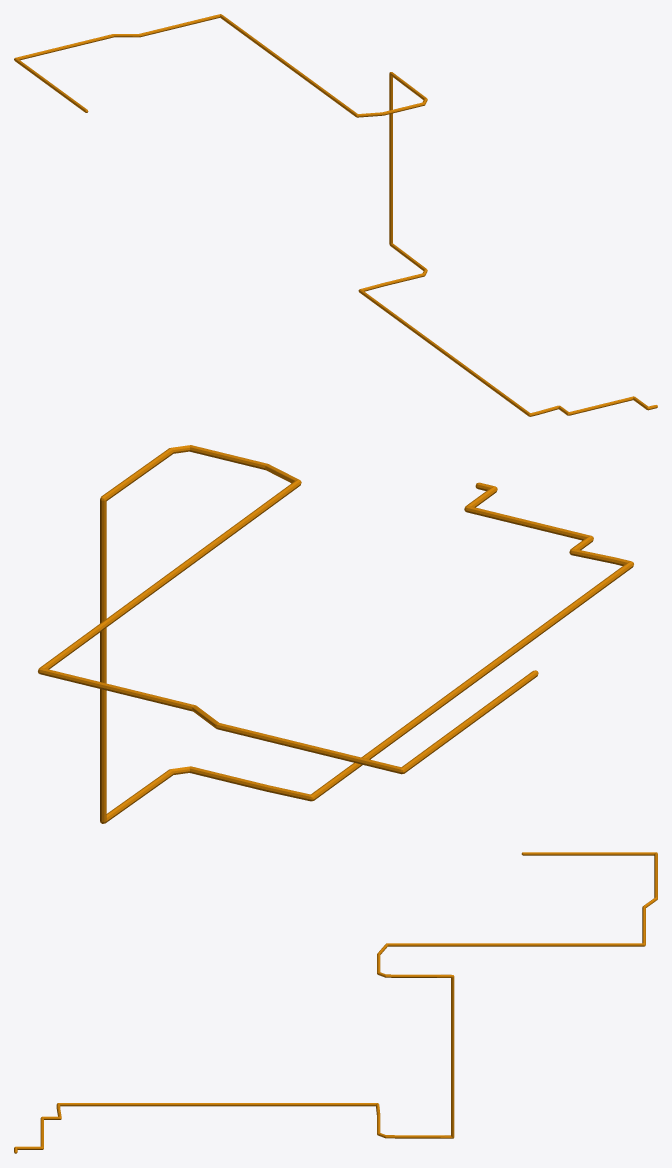
The picture shows the model from 3 angles, top to bottom: view 1: azimuth 30°, elevation 25°; view 2: azimuth 150°, elevation 25°; view 3: azimuth 270°, elevation 25°; orthographic projection. The views are drawn at different scales.
Size of the model in its own units: 1856 by 1020 by 3633.
